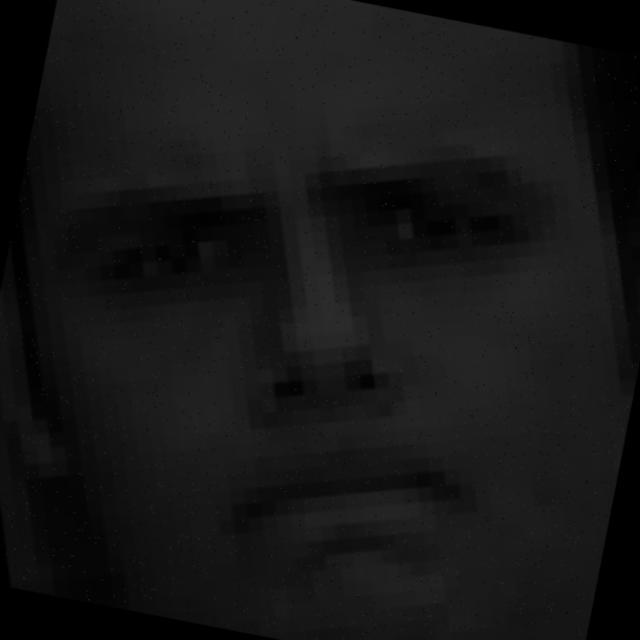Angry: (8, 60, 566, 640)
